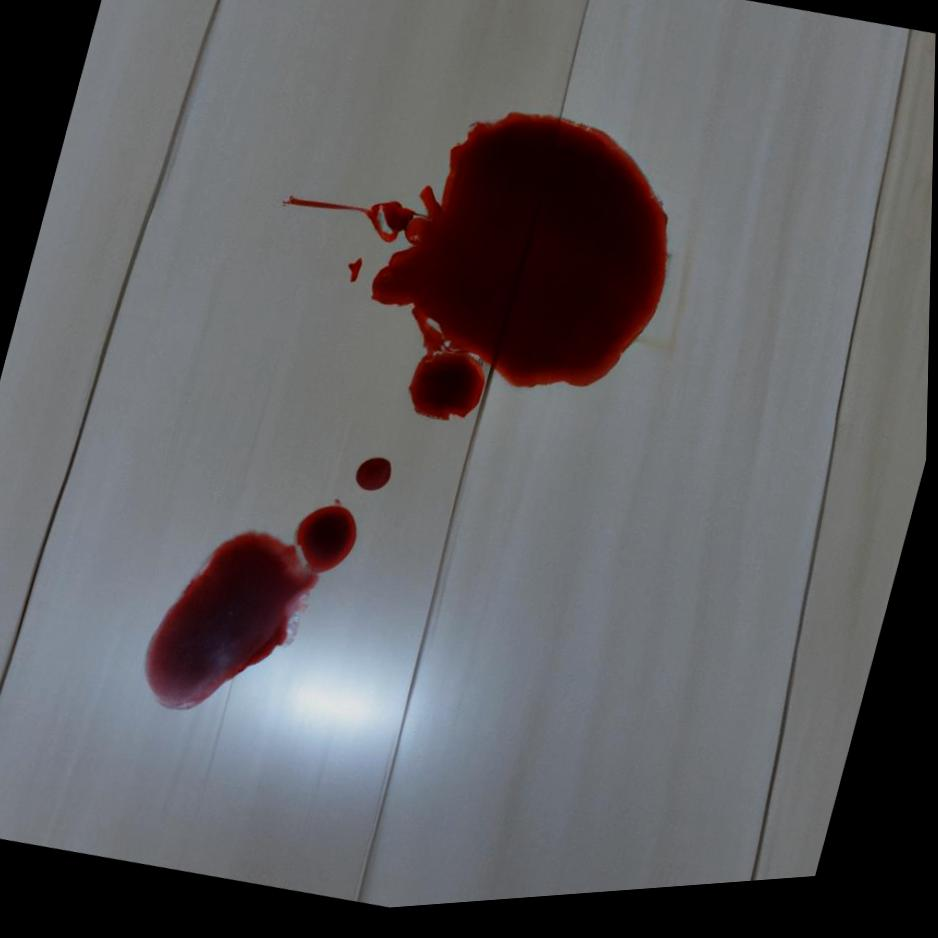Fire: (283, 119, 670, 427), (146, 504, 360, 713), (358, 463, 395, 496)
